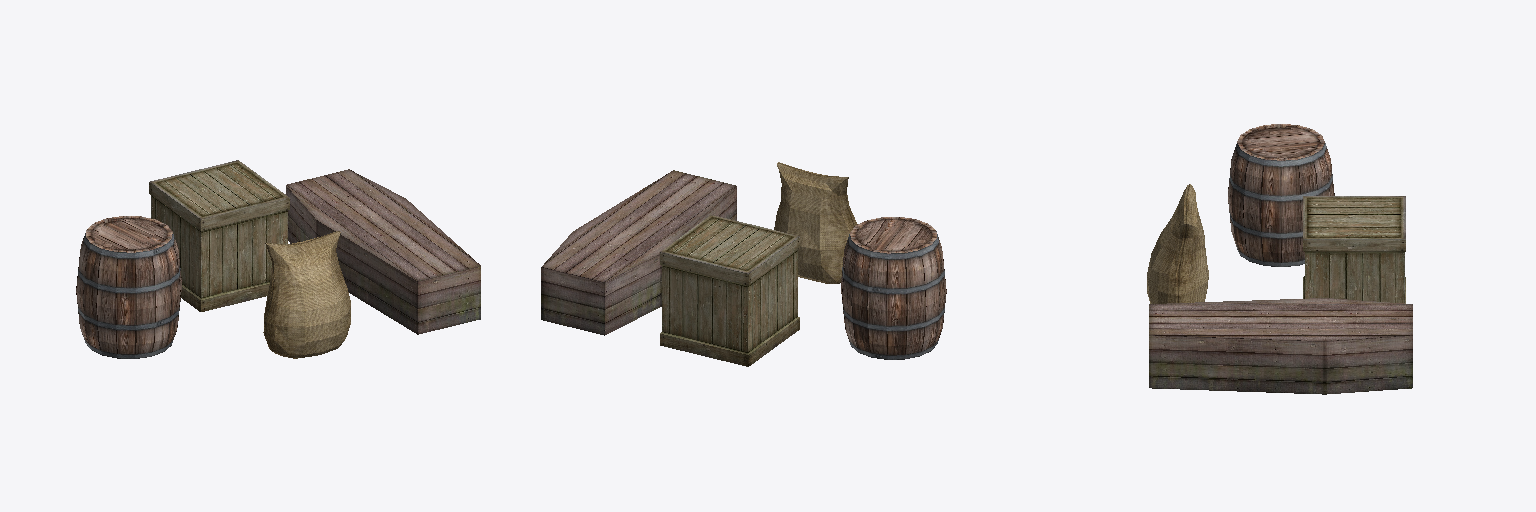
The picture shows the model from 3 angles: view 1: azimuth 30°, elevation 25°; view 2: azimuth 150°, elevation 25°; view 3: azimuth 270°, elevation 25°; orthographic projection.
Parts seen in each view (by area): view 1: Mesh4 CoffinBox01_1 ske1A4_1 atrezzo_publo_vaquero1 Model, Mesh3 SquareBox01_1 ske1A4_1 atrezzo_publo_vaquero1 Model, Mesh2 Barrel1 ske1A4_1 atrezzo_publo_vaquero1 Model, Mesh1 GrainSack01_1 ske1A4_1 atrezzo_publo_vaquero1 Model; view 2: Mesh3 SquareBox01_1 ske1A4_1 atrezzo_publo_vaquero1 Model, Mesh4 CoffinBox01_1 ske1A4_1 atrezzo_publo_vaquero1 Model, Mesh2 Barrel1 ske1A4_1 atrezzo_publo_vaquero1 Model, Mesh1 GrainSack01_1 ske1A4_1 atrezzo_publo_vaquero1 Model; view 3: Mesh4 CoffinBox01_1 ske1A4_1 atrezzo_publo_vaquero1 Model, Mesh2 Barrel1 ske1A4_1 atrezzo_publo_vaquero1 Model, Mesh3 SquareBox01_1 ske1A4_1 atrezzo_publo_vaquero1 Model, Mesh1 GrainSack01_1 ske1A4_1 atrezzo_publo_vaquero1 Model.
Boxes of the visible parts, x1,y1,x2,y2 form: Mesh4 CoffinBox01_1 ske1A4_1 atrezzo_publo_vaquero1 Model: [286, 169, 480, 334]; Mesh3 SquareBox01_1 ske1A4_1 atrezzo_publo_vaquero1 Model: [149, 160, 289, 311]; Mesh2 Barrel1 ske1A4_1 atrezzo_publo_vaquero1 Model: [76, 216, 181, 358]; Mesh1 GrainSack01_1 ske1A4_1 atrezzo_publo_vaquero1 Model: [263, 231, 350, 358]; Mesh3 SquareBox01_1 ske1A4_1 atrezzo_publo_vaquero1 Model: [660, 215, 799, 366]; Mesh4 CoffinBox01_1 ske1A4_1 atrezzo_publo_vaquero1 Model: [541, 170, 736, 335]; Mesh2 Barrel1 ske1A4_1 atrezzo_publo_vaquero1 Model: [841, 217, 946, 359]; Mesh1 GrainSack01_1 ske1A4_1 atrezzo_publo_vaquero1 Model: [774, 162, 857, 283]; Mesh4 CoffinBox01_1 ske1A4_1 atrezzo_publo_vaquero1 Model: [1149, 298, 1412, 394]; Mesh2 Barrel1 ske1A4_1 atrezzo_publo_vaquero1 Model: [1228, 124, 1334, 266]; Mesh3 SquareBox01_1 ske1A4_1 atrezzo_publo_vaquero1 Model: [1303, 196, 1405, 303]; Mesh1 GrainSack01_1 ske1A4_1 atrezzo_publo_vaquero1 Model: [1147, 184, 1208, 303].
Size of the model in its own units: 107 by 32.41 by 71.5.
Materials: 4 (4 with a texture image).